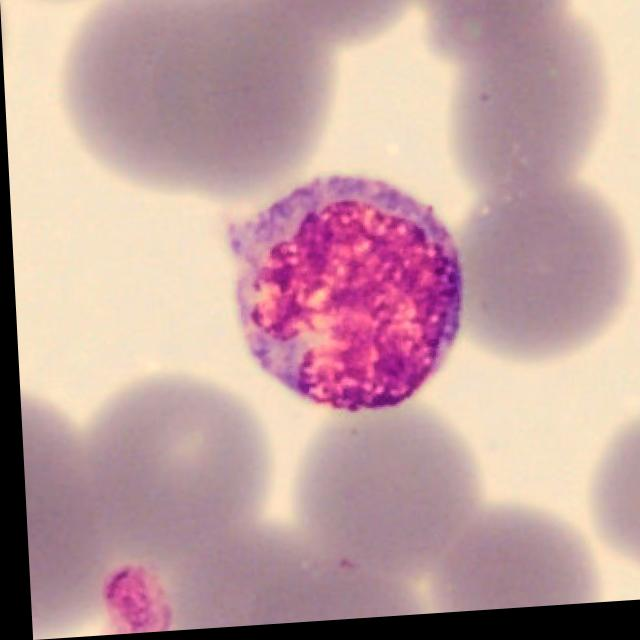Linfocito atipico: (224, 178, 460, 414)
